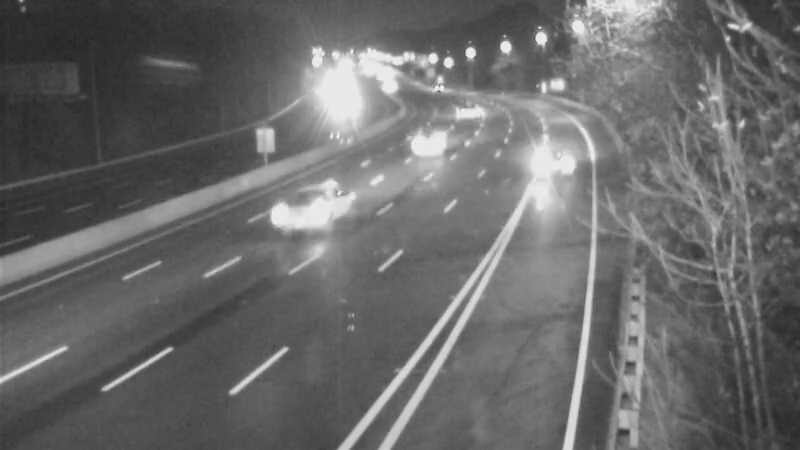vehicle: (519, 120, 599, 200), (257, 155, 337, 235), (440, 89, 490, 139), (399, 118, 449, 168)
